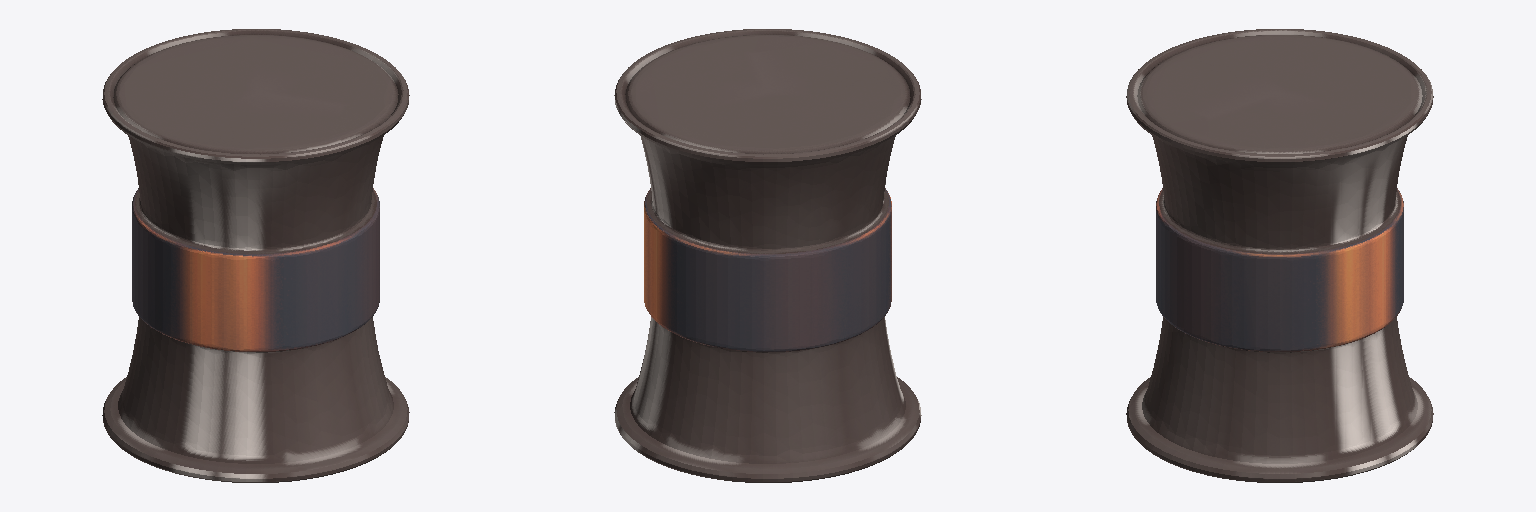
3 views of the same model, side by side, from view 1: azimuth 30°, elevation 25°; view 2: azimuth 150°, elevation 25°; view 3: azimuth 270°, elevation 25° (orthographic).
Parts seen in each view (by area): view 1: solid_002, solid_001; view 2: solid_002, solid_001; view 3: solid_002, solid_001.
Boxes of the visible parts, x1,y1,x2,y2 form: solid_002: [102, 29, 409, 482]; solid_001: [132, 188, 379, 351]; solid_002: [614, 29, 921, 482]; solid_001: [644, 188, 891, 351]; solid_002: [1126, 29, 1433, 482]; solid_001: [1156, 188, 1403, 351].
Size of the model in its own units: 0.4988 by 0.587 by 0.4988.
Materials: 1 (1 with a texture image).